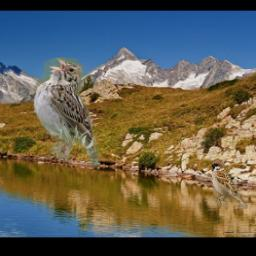Sparrow: (34, 58, 100, 169), (211, 159, 247, 209)
